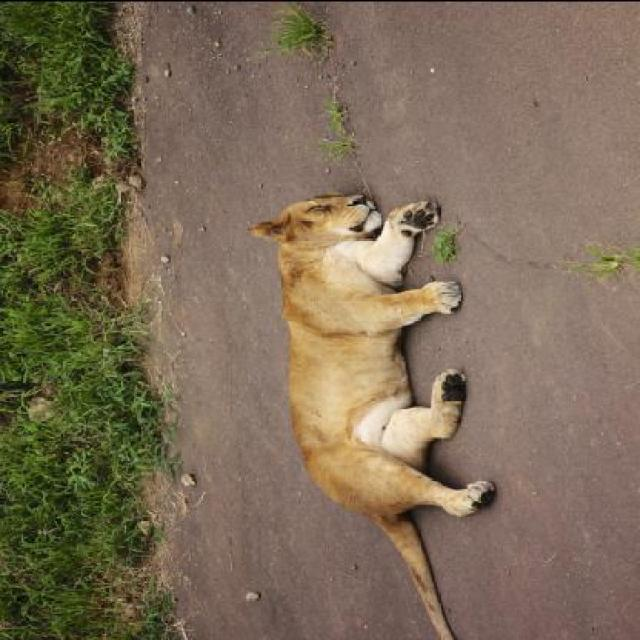Lion: (249, 182, 529, 638)
